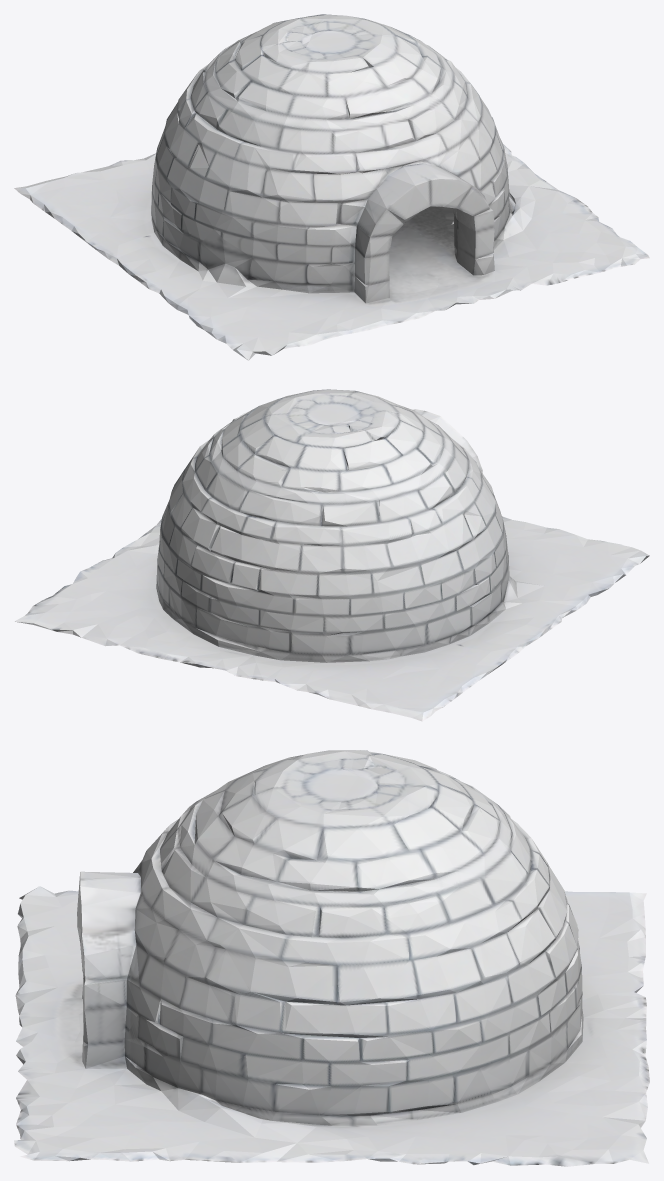
Rendered from iglu.fbx.
The picture shows the model from 3 angles, top to bottom: view 1: azimuth 30°, elevation 25°; view 2: azimuth 150°, elevation 25°; view 3: azimuth 270°, elevation 25°; orthographic projection. The views are drawn at different scales.
Parts seen in each view (by area): view 1: temp; view 2: temp; view 3: temp.
Part boxes in pixels (box(x1,y1,x2,y2)): temp: box(14, 14, 649, 360); temp: box(14, 389, 649, 721); temp: box(14, 750, 649, 1166).
Bounding box in the file's own units: 199 × 83.48 × 194.
Materials: 1 (1 with a texture image).
